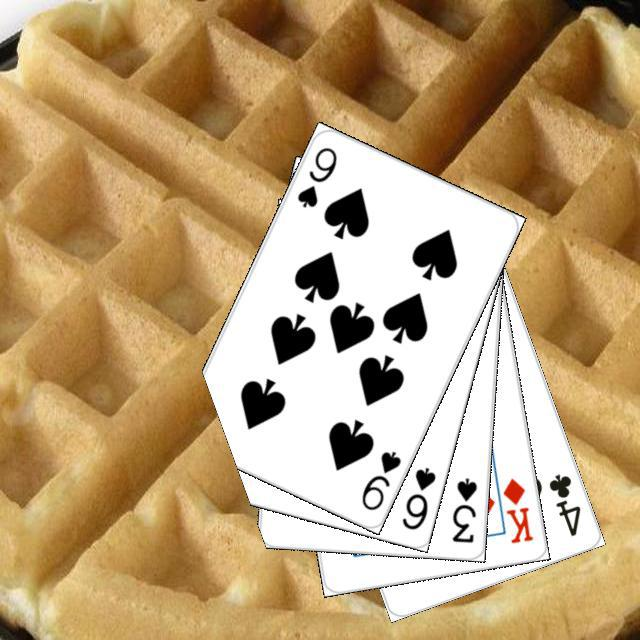3s: (447, 473, 479, 544)
4c: (544, 468, 583, 538)
6s: (397, 462, 437, 532)
9s: (292, 142, 339, 209), (356, 446, 403, 512)
Kd: (498, 473, 535, 545)
